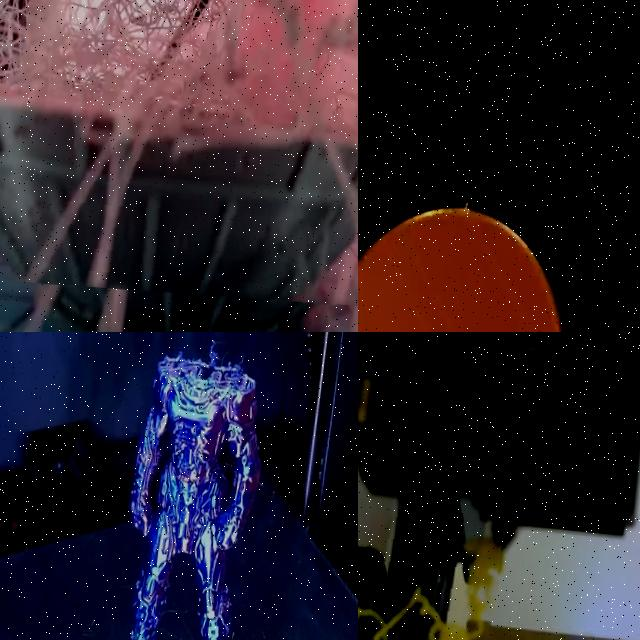spaghetti: (358, 540, 500, 640)
